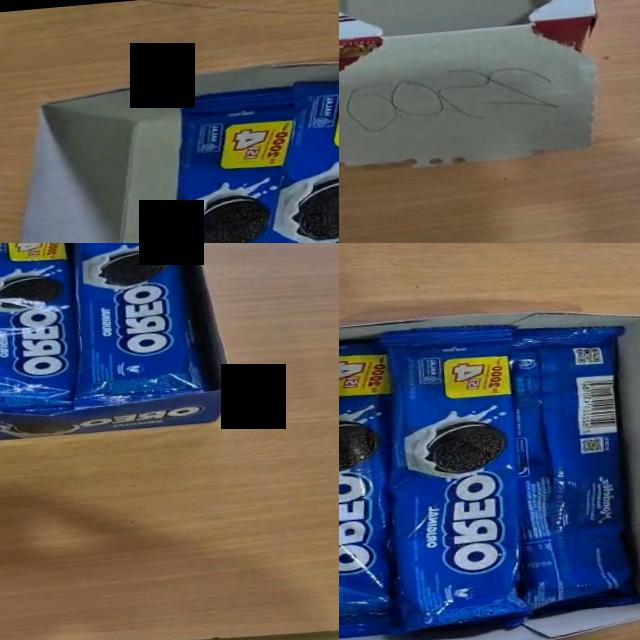Oreo: (382, 326, 528, 629), (512, 327, 638, 612), (57, 243, 208, 406), (175, 87, 293, 243), (339, 339, 397, 637), (0, 243, 88, 420), (271, 82, 339, 243)
